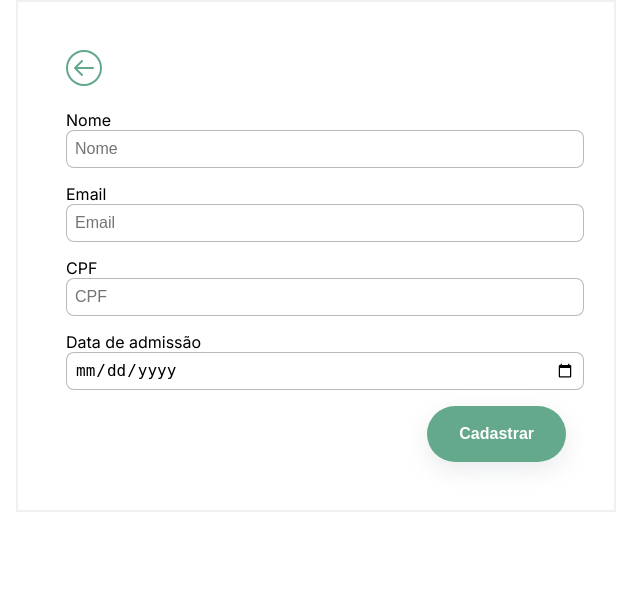
Test: NewUser › Name Validation › should show a error message when name is empty
The width and height of the screenshot is (633, 589).
Click the button "Cadastrar": (497, 434) [427,406,566,462]
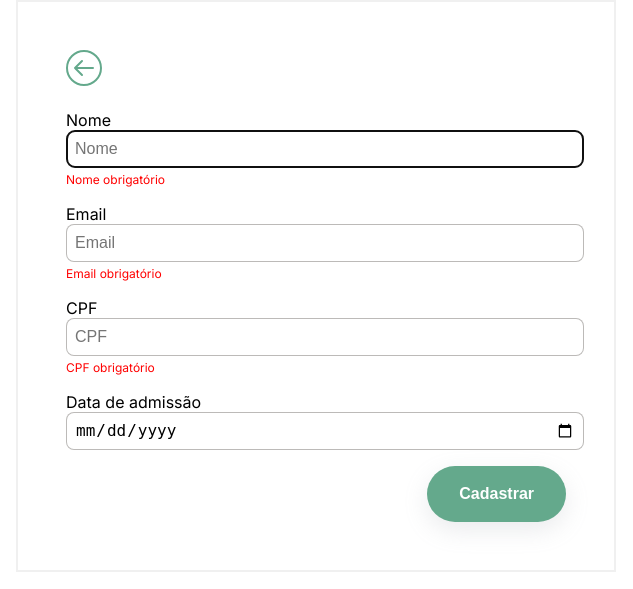
Now the text "Nome obrigatório" is shown, box [66,172,165,187]
